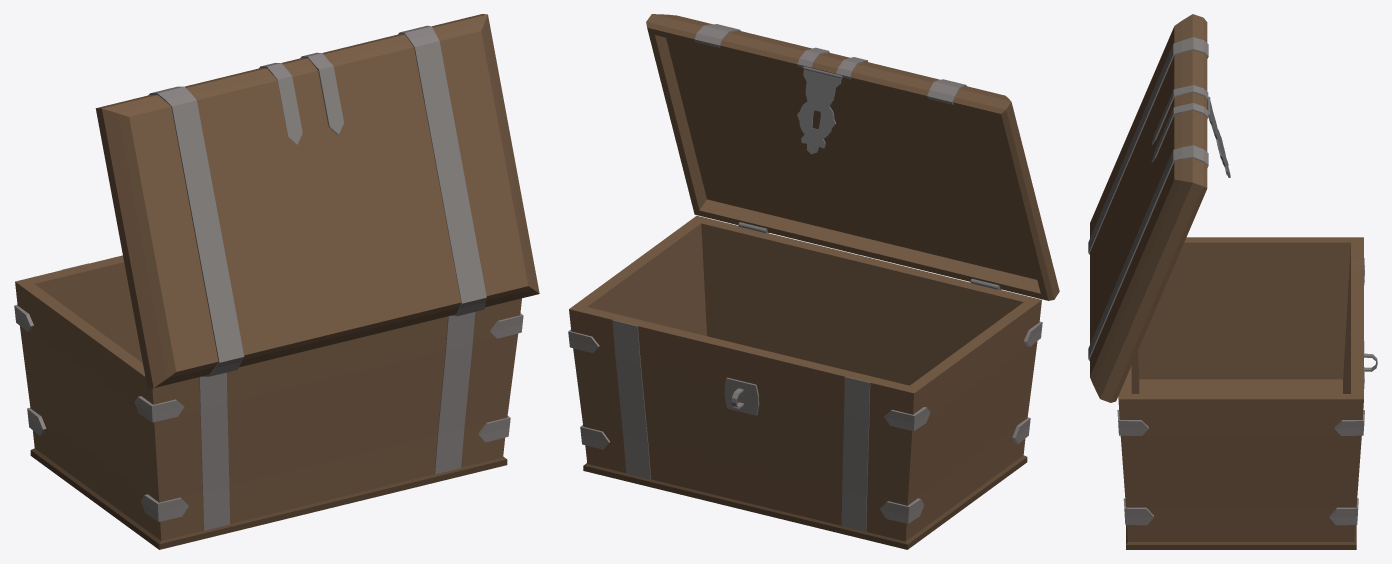
Rendered from ChestOpen.fbx.
3 views of the same model, side by side, from view 1: azimuth 30°, elevation 25°; view 2: azimuth 150°, elevation 25°; view 3: azimuth 270°, elevation 25° (orthographic). The views are drawn at different scales.
Parts seen in each view (by area): view 1: ChestOpen; view 2: ChestOpen; view 3: ChestOpen.
Part boxes in pixels (x1=…): ChestOpen: x1=14, y1=14, x2=539, y2=549; ChestOpen: x1=568, y1=14, x2=1059, y2=549; ChestOpen: x1=1088, y1=14, x2=1377, y2=549.
Bounding box in the file's own units: 174 × 181 × 126.
